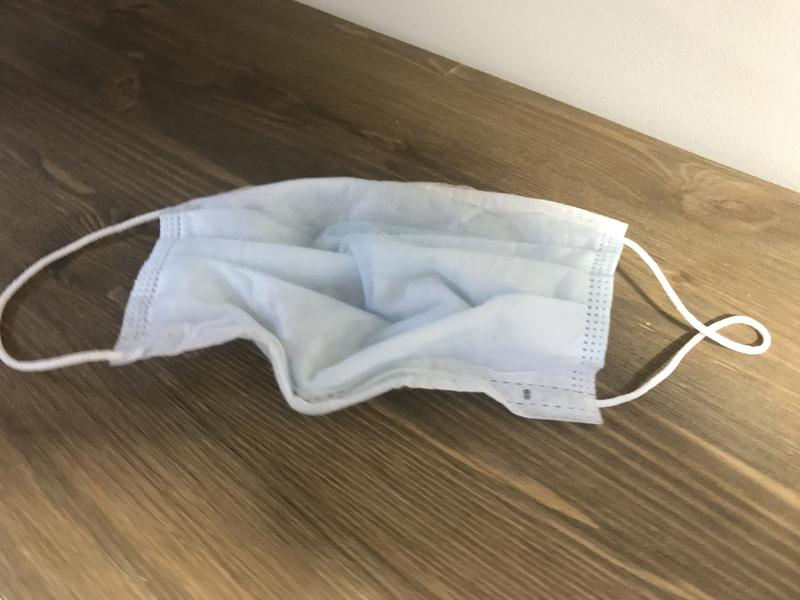medical_mask: (1, 174, 770, 427)
